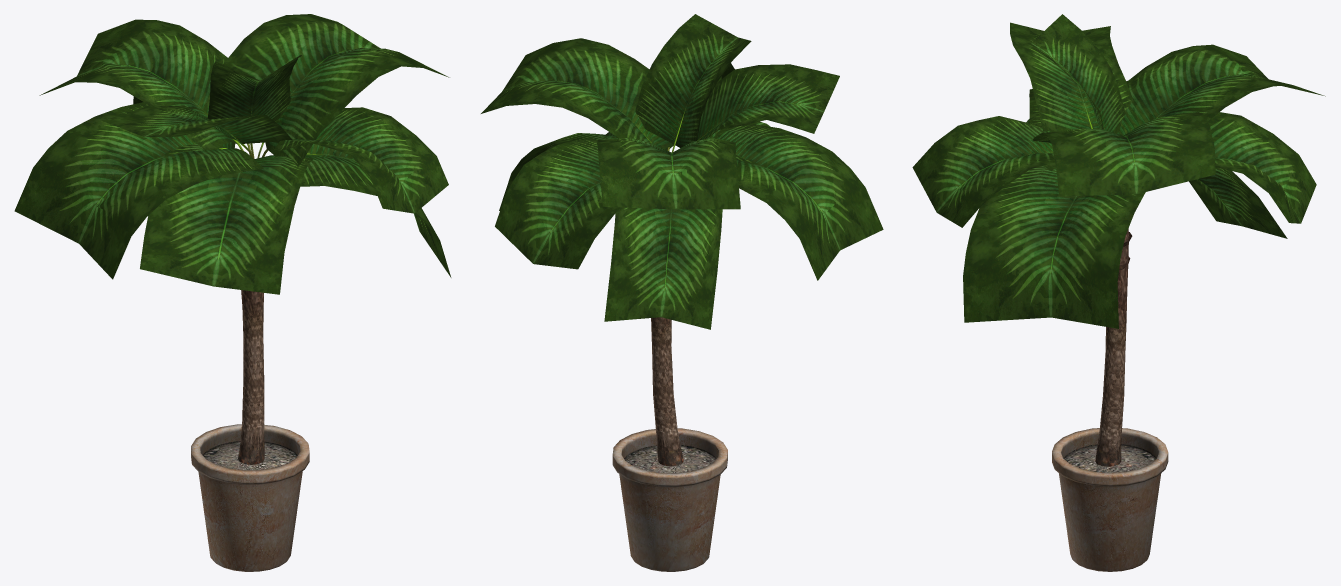
The model's file is Furniture_foliageplant_05_LOD0 #39158.fbx.
3 views of the same model, side by side, from view 1: azimuth 30°, elevation 25°; view 2: azimuth 150°, elevation 25°; view 3: azimuth 270°, elevation 25° (orthographic). The views are drawn at different scales.
Parts seen in each view (by area): view 1: F_foliageplant_05_m1, F_foliageplant_05_m2; view 2: F_foliageplant_05_m1, F_foliageplant_05_m2; view 3: F_foliageplant_05_m1, F_foliageplant_05_m2.
Boxes of the visible parts, x1,y1,x2,y2 form: F_foliageplant_05_m1: (14, 14, 451, 294); F_foliageplant_05_m2: (191, 290, 309, 571); F_foliageplant_05_m1: (481, 14, 883, 329); F_foliageplant_05_m2: (612, 317, 727, 571); F_foliageplant_05_m1: (912, 14, 1325, 328); F_foliageplant_05_m2: (1052, 228, 1168, 571).
Size of the model in its own units: 1.4 by 1.91 by 1.4.
Materials: 2 (2 with a texture image).
